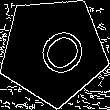O_SW: (21, 17, 87, 84)
